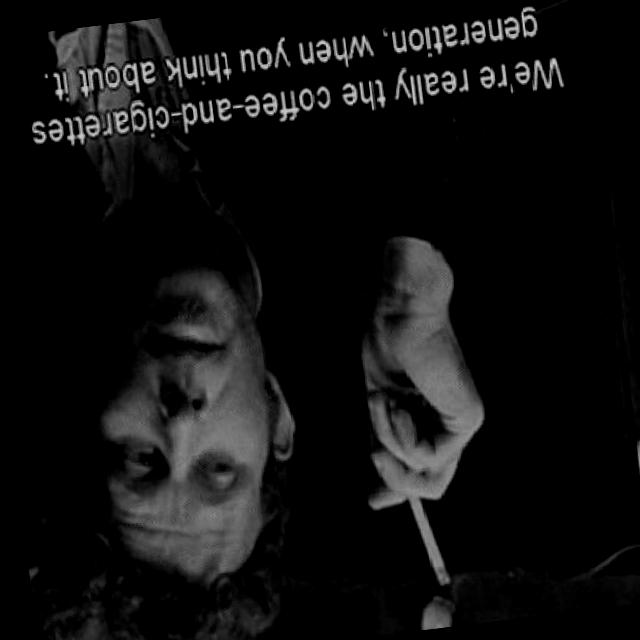cigarette: (402, 488, 454, 592)
